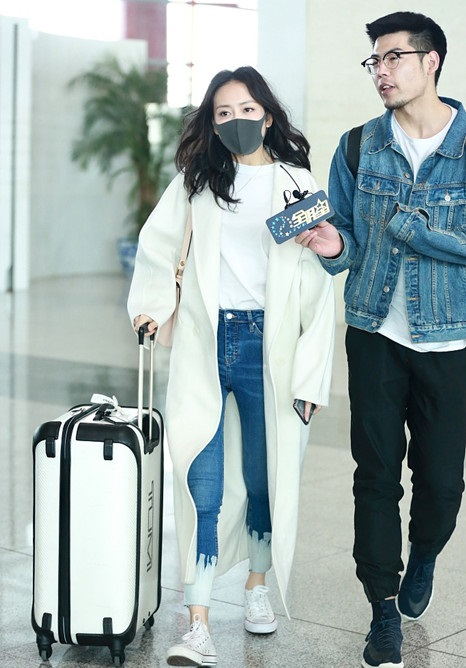face: (372, 32, 420, 107)
face_mask: (215, 83, 264, 155)
